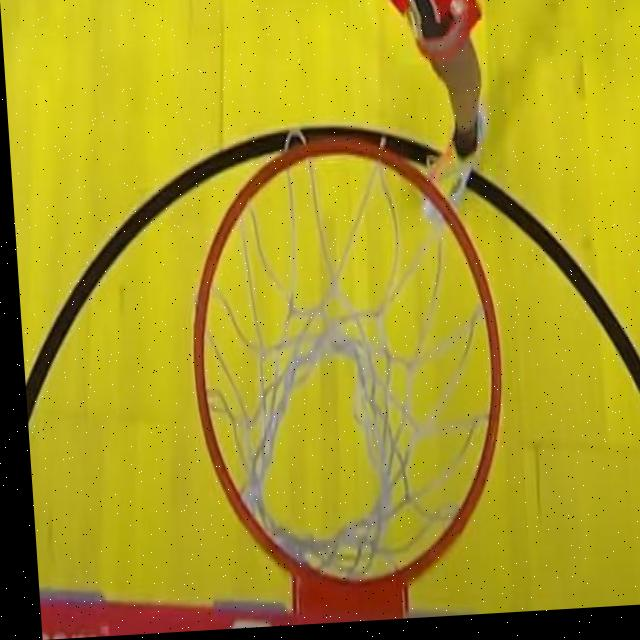hoop: (194, 169, 502, 602)
